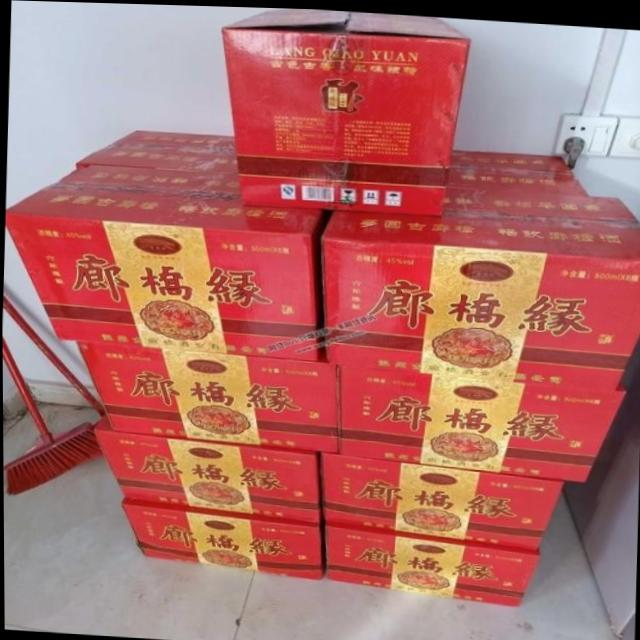box: (317, 183, 640, 387), (4, 164, 324, 358), (222, 6, 470, 212), (339, 362, 623, 475), (78, 344, 336, 450), (96, 419, 322, 521), (318, 453, 560, 546), (321, 522, 536, 604), (121, 500, 322, 578), (76, 129, 235, 171), (444, 145, 584, 189)
